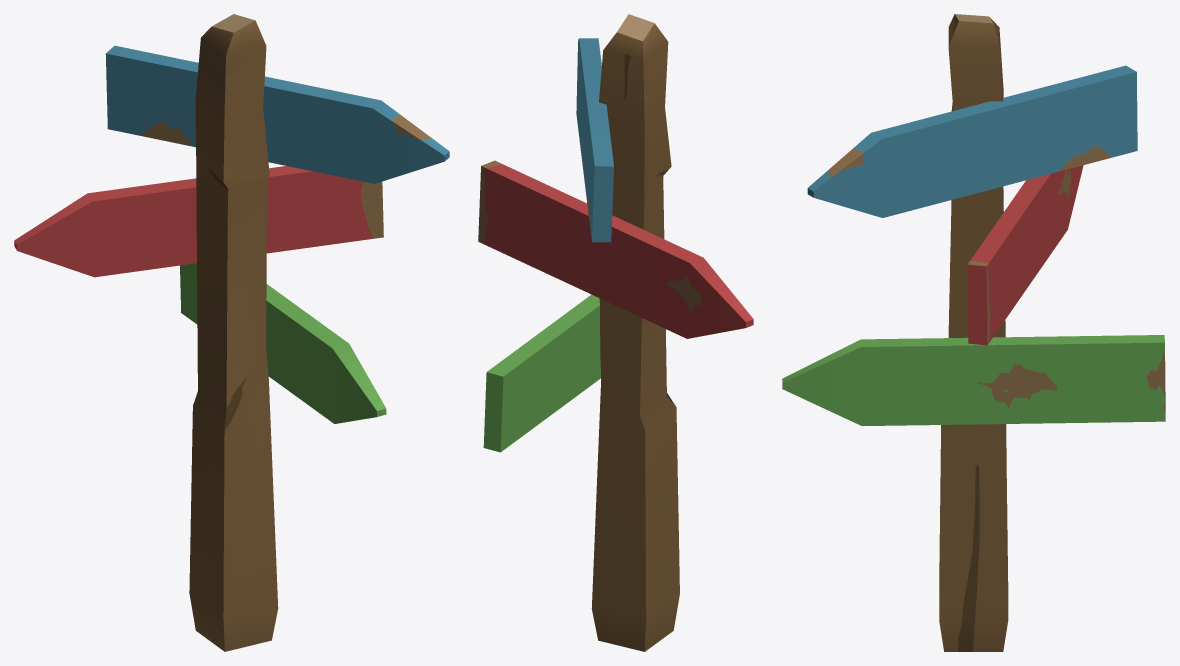
File: lupai.fbx
3 renders of one model, left to right at view 1: azimuth 30°, elevation 25°; view 2: azimuth 150°, elevation 25°; view 3: azimuth 270°, elevation 25°, orthographic. The views are drawn at different scales.
Visible parts, largest first — view 1: zhuzi, lupai1, lupai2, lupai3; view 2: zhuzi, lupai1, lupai3, lupai2; view 3: lupai3, lupai2, zhuzi, lupai1.
Boxes of the visible parts, x1,y1,x2,y2 form: zhuzi: (189,14,278,651); lupai1: (14,166,383,277); lupai2: (105,45,449,183); lupai3: (180,263,386,423); zhuzi: (591,14,679,651); lupai1: (478,160,753,338); lupai3: (483,294,600,452); lupai2: (576,38,613,242); lupai3: (782,335,1165,425); lupai2: (807,65,1137,217); zhuzi: (939,14,1008,651); lupai1: (967,165,1083,345).
Bounding box in the file's own units: 11.04 × 20.36 × 11.3.
4 materials, 4 textured.
